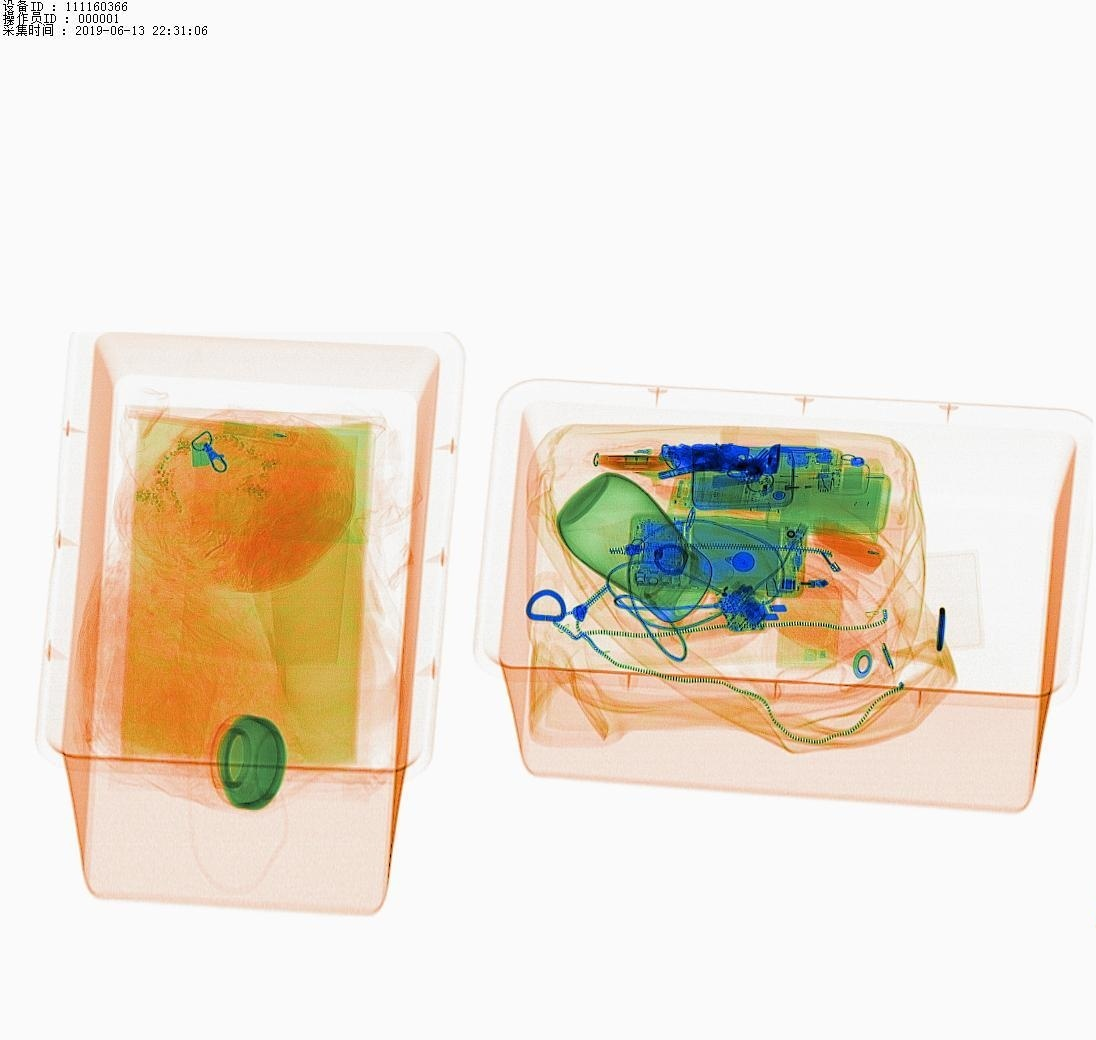NonmetallicFire: (761, 467, 836, 498)
